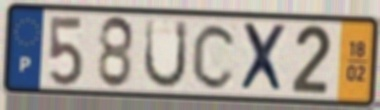2: (289, 22, 336, 98)
5: (46, 12, 88, 88)
8: (95, 13, 137, 91)
C: (190, 20, 240, 92)
U: (141, 16, 190, 92)
X: (238, 21, 289, 96)
